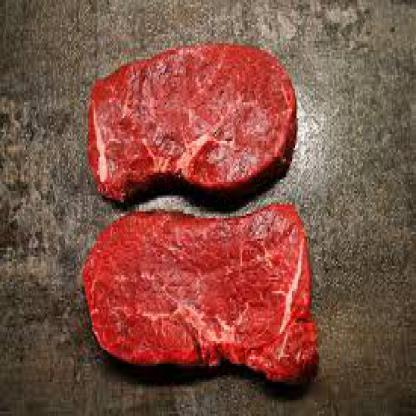beef: (82, 214, 319, 382), (86, 36, 301, 202)
